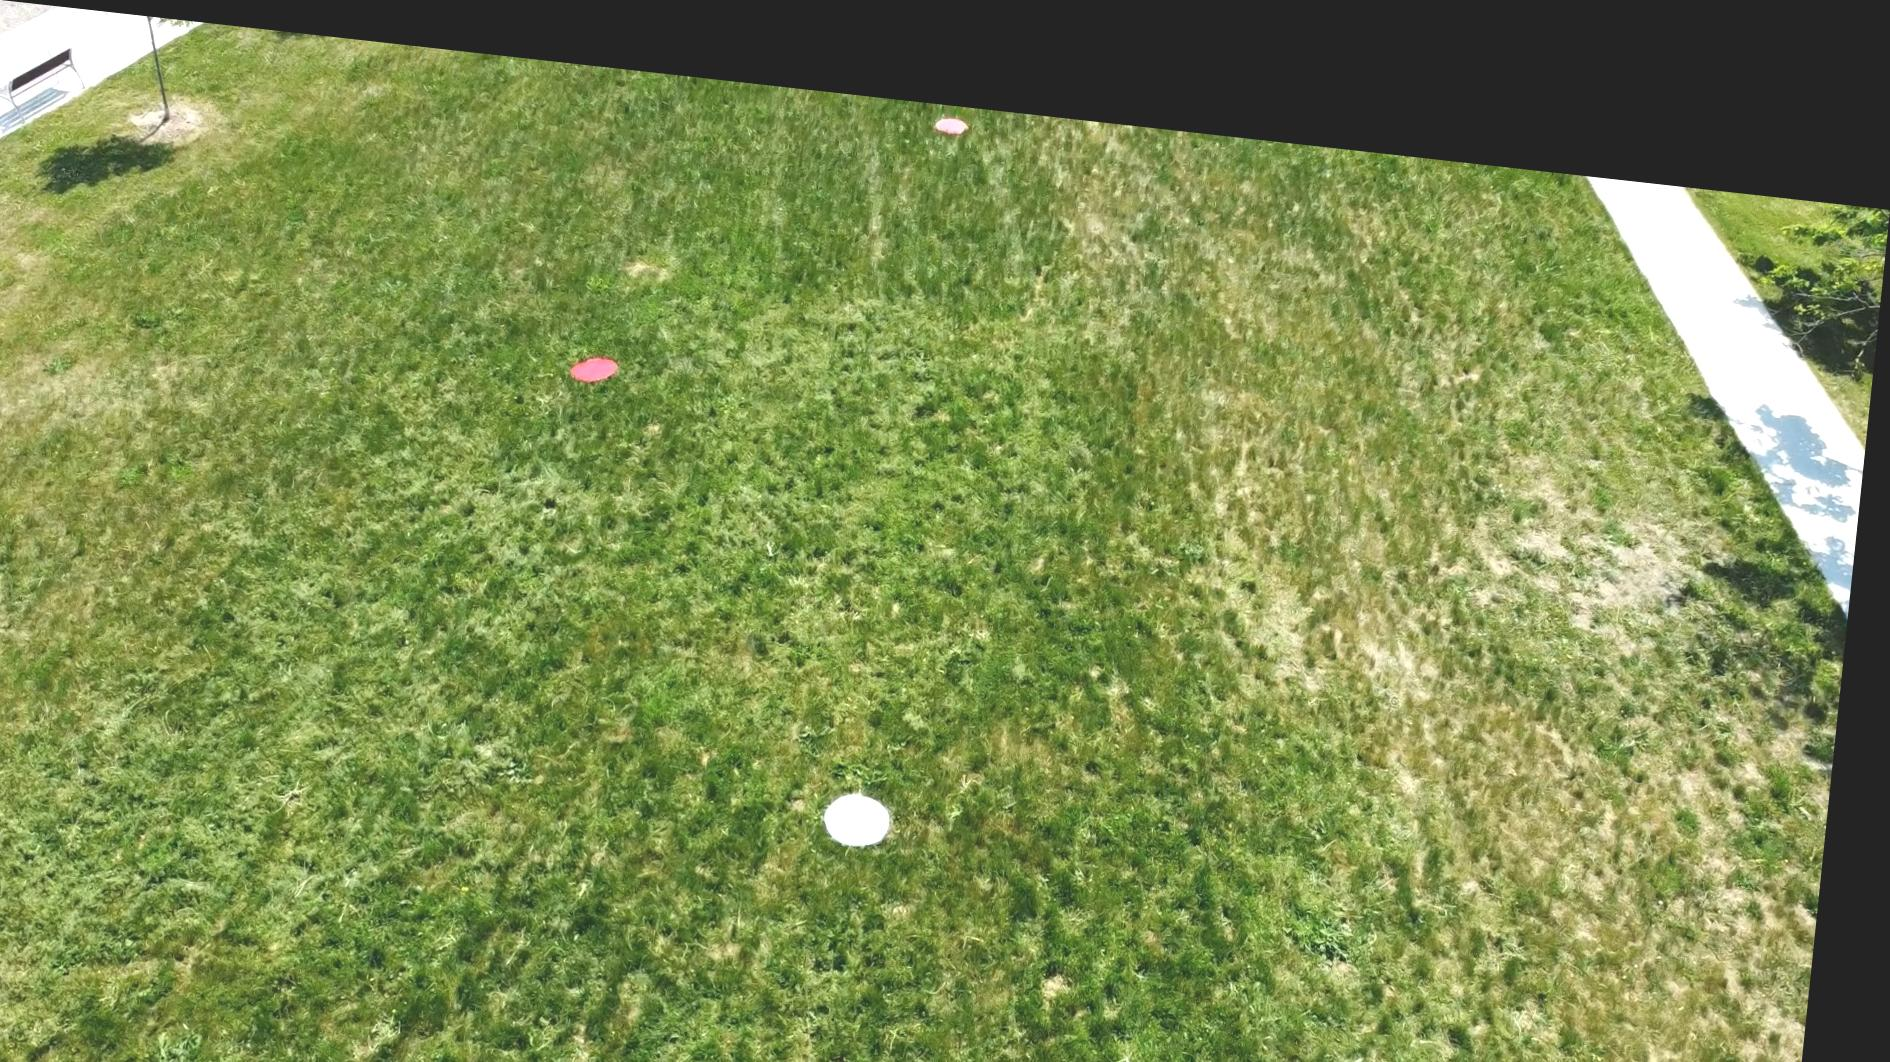Blue: (836, 763, 910, 830)
Red: (572, 336, 626, 371), (935, 93, 971, 113)
